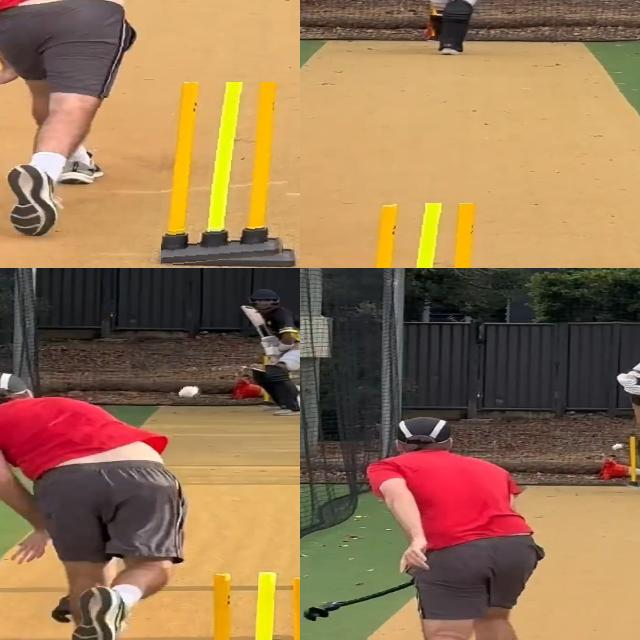Cricket ball: (178, 386, 202, 400), (610, 443, 625, 452)
Stumps: (161, 82, 298, 267), (353, 203, 500, 268), (192, 572, 300, 640)
